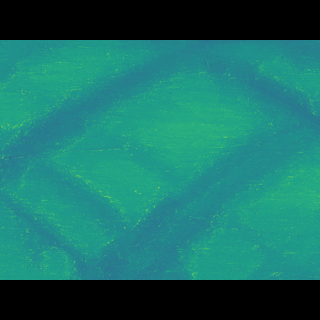Loch: (0, 83, 183, 182), (0, 180, 219, 250), (195, 76, 319, 148)
